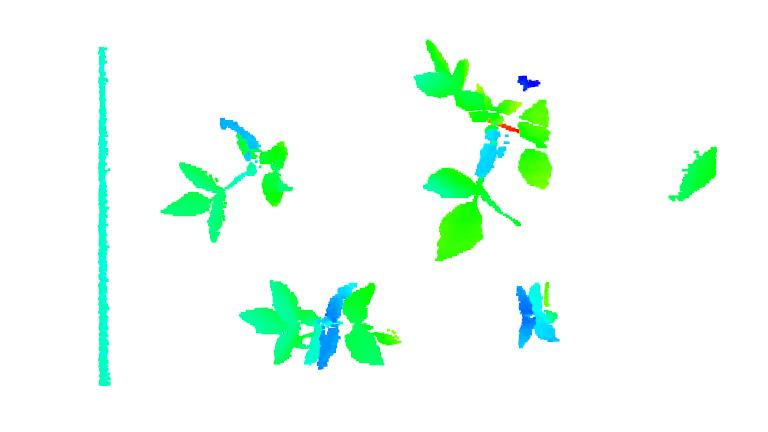mungbean: (416, 38, 558, 261), (161, 117, 293, 245), (241, 273, 404, 372), (511, 277, 567, 351)
